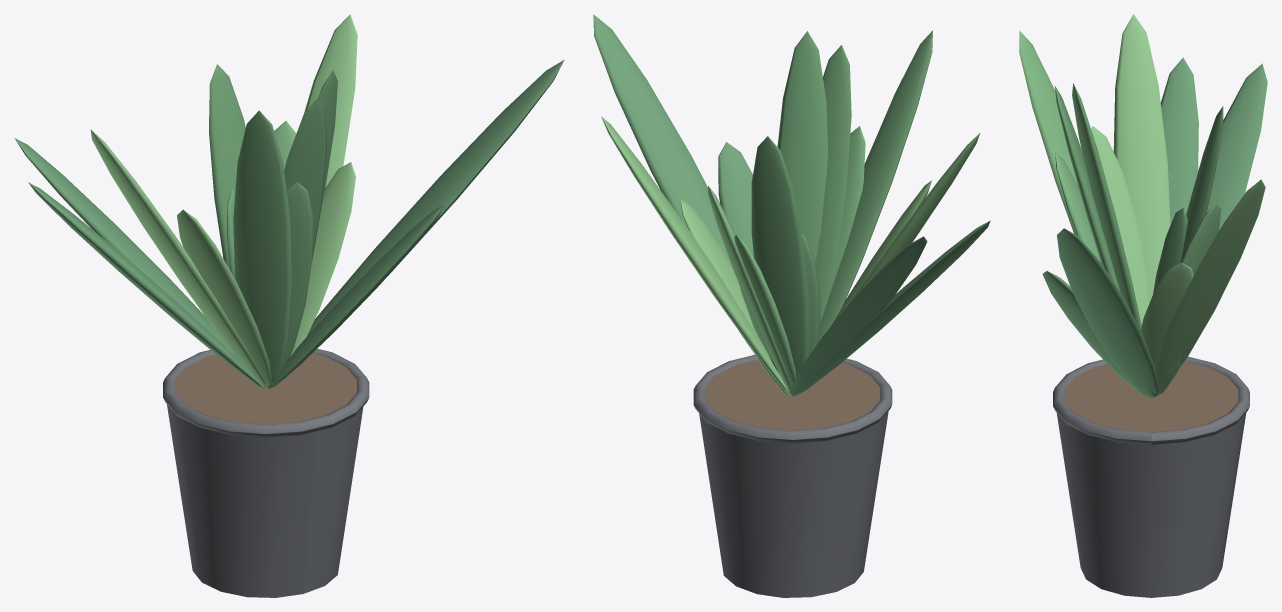
The model's file is plant.glb.
3 views of the same model, side by side, from view 1: azimuth 30°, elevation 25°; view 2: azimuth 150°, elevation 25°; view 3: azimuth 270°, elevation 25° (orthographic). The views are drawn at different scales.
Visible parts, largest first — view 1: leaf (×4), pot, c3a2a1e_1_0; view 2: leaf (×4), pot, c3a2a1e_1_0; view 3: leaf (×4), pot, c3a2a1e_1_0.
Part boxes in pixels (left/top/right/bottom): leaf (×4): left=14, top=14, right=564, bottom=388; pot: left=163, top=348, right=369, bottom=597; c3a2a1e_1_0: left=175, top=353, right=356, bottom=424; leaf (×4): left=593, top=14, right=990, bottom=395; pot: left=693, top=355, right=892, bottom=597; c3a2a1e_1_0: left=705, top=359, right=880, bottom=430; leaf (×4): left=1019, top=14, right=1267, bottom=397; pot: left=1053, top=356, right=1249, bottom=597; c3a2a1e_1_0: left=1064, top=361, right=1238, bottom=432.
Size of the model in its own units: 1.4 by 1.49 by 0.6668.
